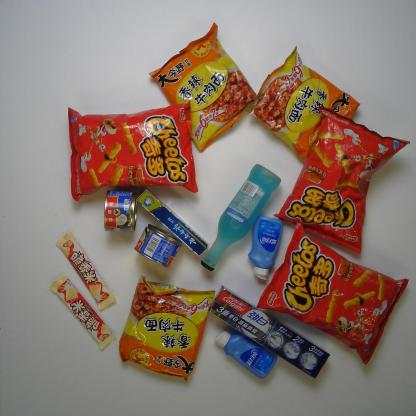Alcohol: (201, 164, 282, 272)
Canned Food: (134, 223, 184, 269), (103, 190, 138, 232)
Chocolate: (47, 273, 117, 351), (55, 231, 117, 310)
Instant Noodles: (149, 22, 257, 152), (245, 46, 361, 163), (119, 275, 216, 381)
Personal Hygiene: (208, 285, 331, 380), (136, 189, 209, 257), (213, 330, 278, 380), (247, 217, 285, 281)
Puffed Food: (255, 221, 409, 365), (273, 106, 412, 255), (67, 100, 199, 201)
